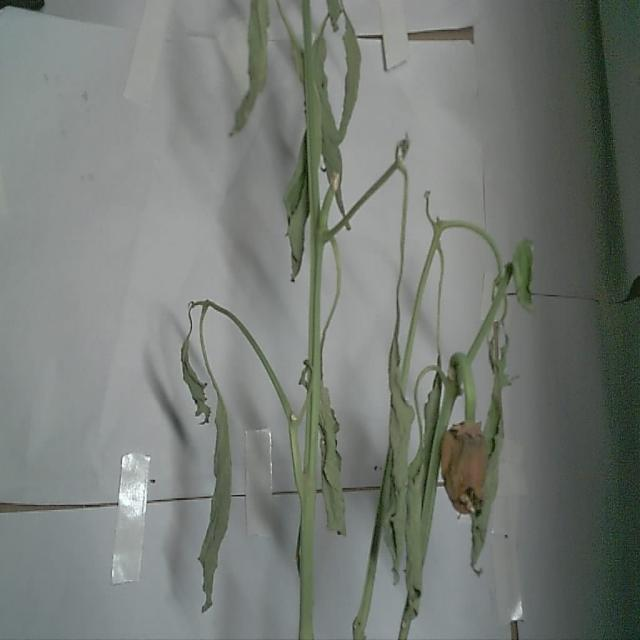Leaf: (205, 366, 233, 616), (384, 321, 407, 582)
